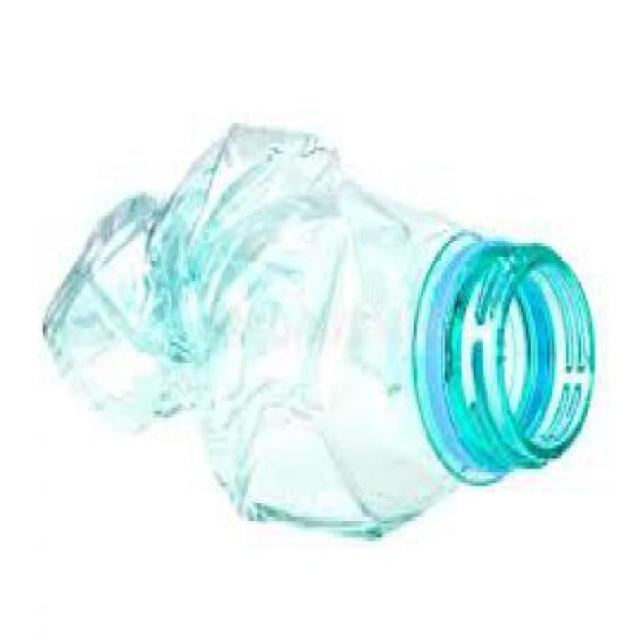PLASTIC: (43, 123, 592, 537)
